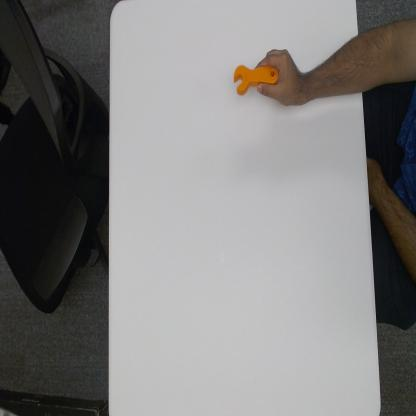Hand: (316, 34, 370, 106), (261, 43, 316, 112)
Screwdriver: (232, 60, 279, 96)
